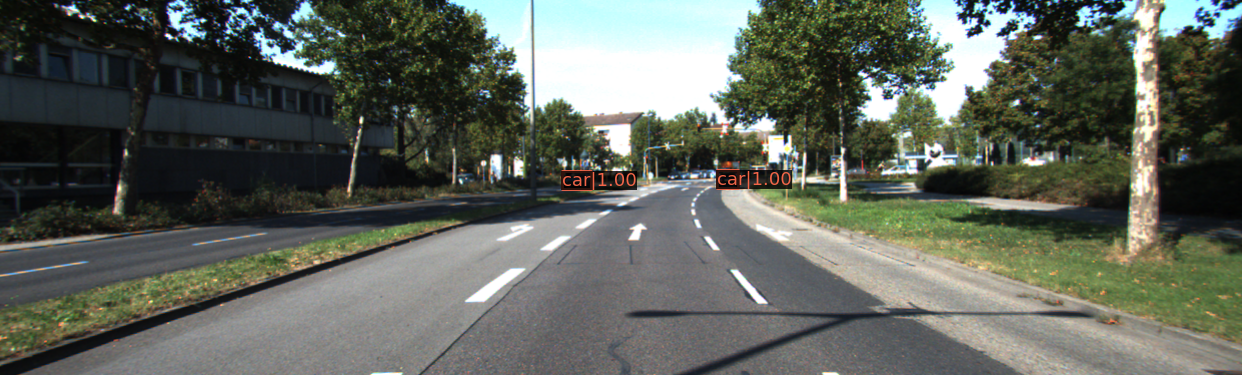car: (563, 172, 592, 189), (718, 174, 739, 191)
